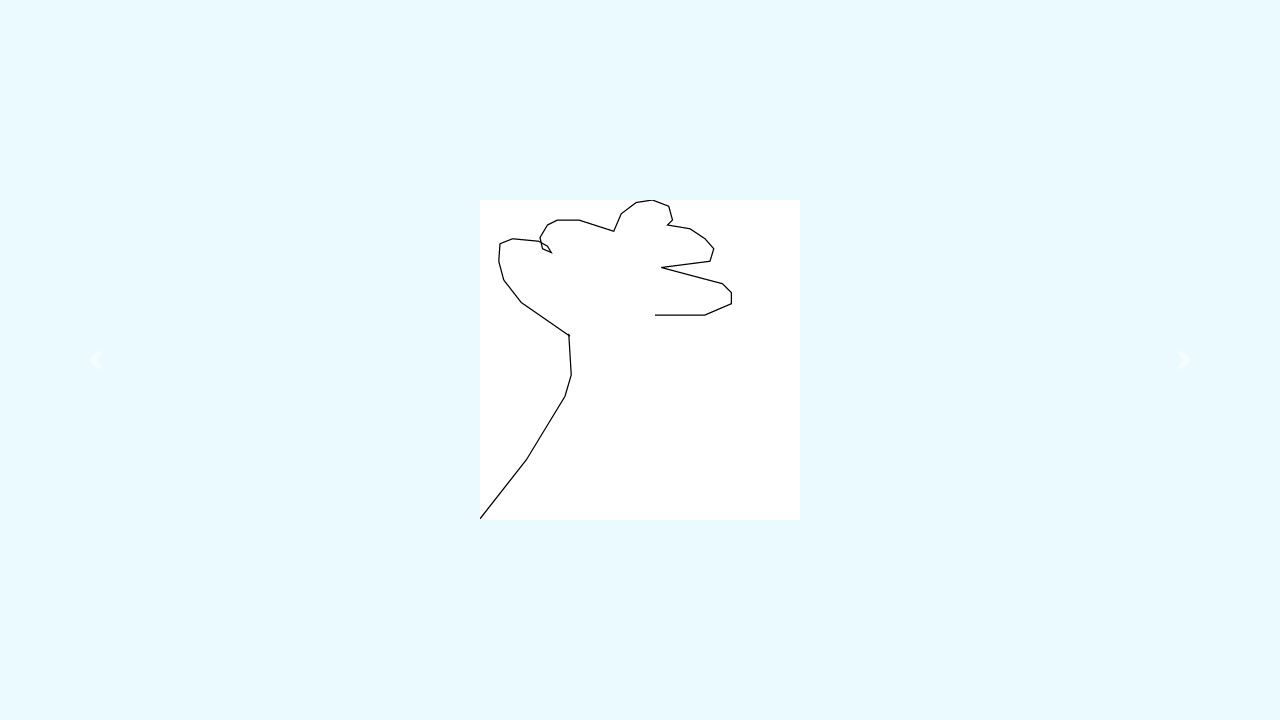tree: (464, 189, 742, 530)
